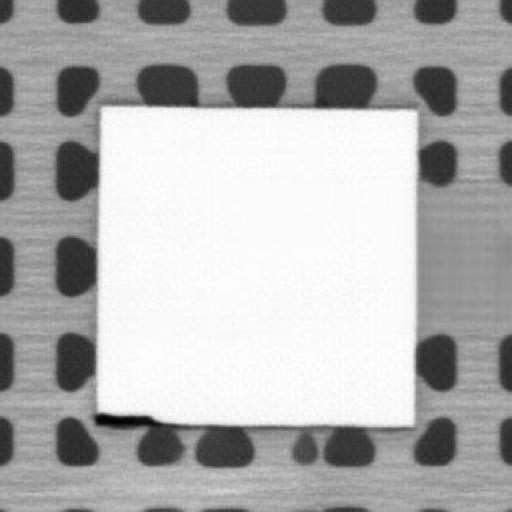DIE_BROKEN: (91, 408, 164, 426)
